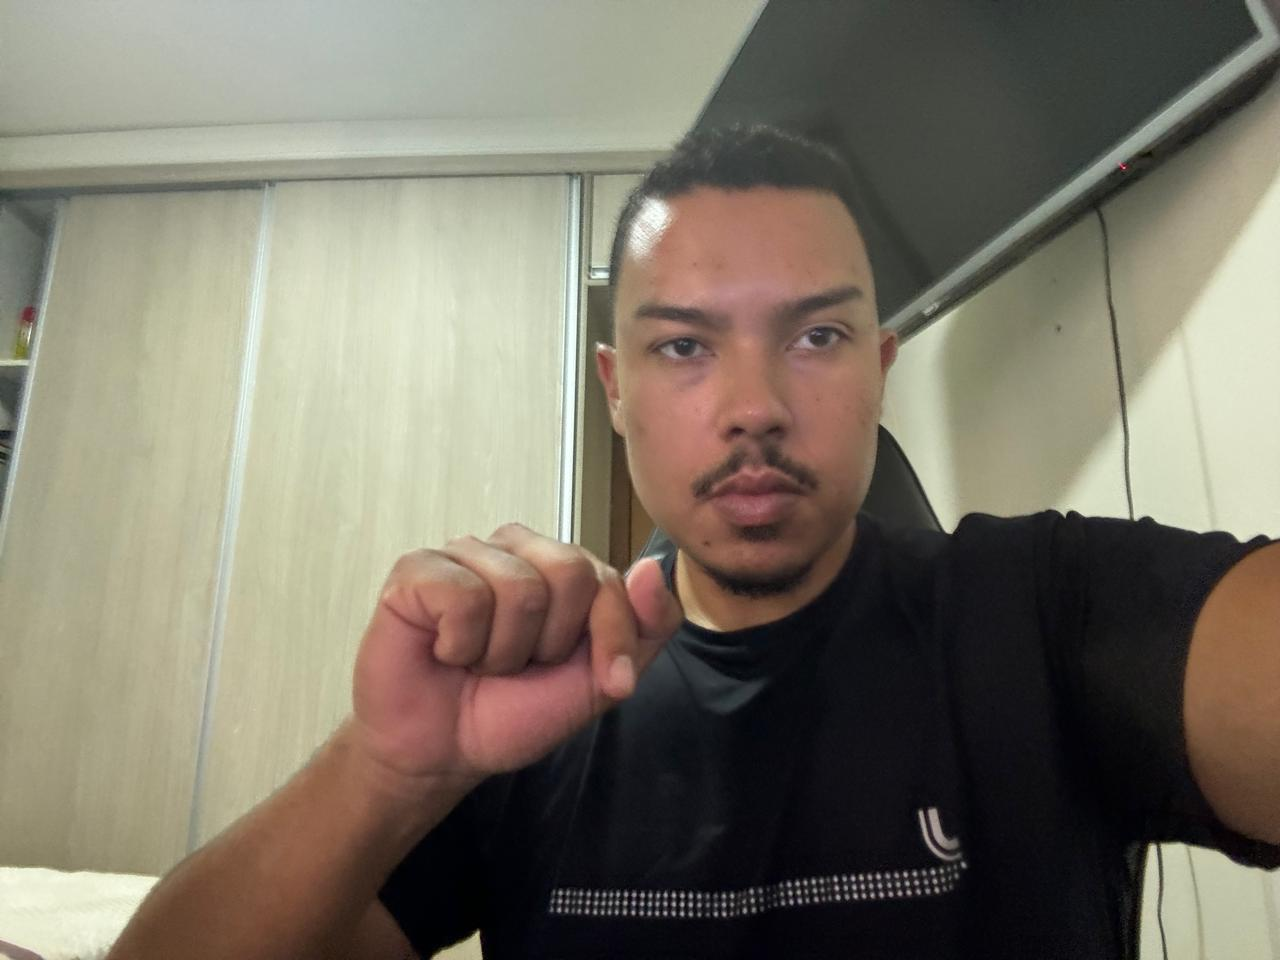q: (338, 504, 689, 798)
